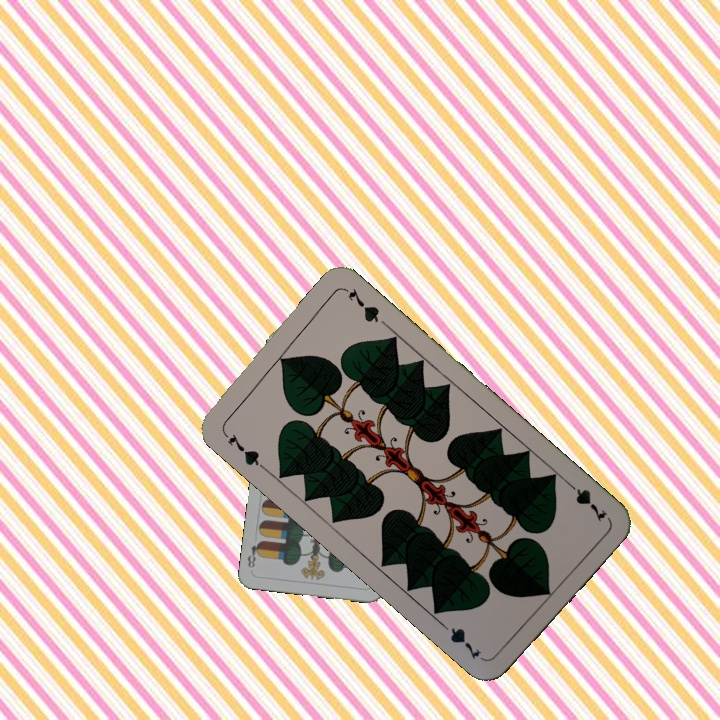G7: (561, 476, 610, 525), (218, 427, 267, 472)
